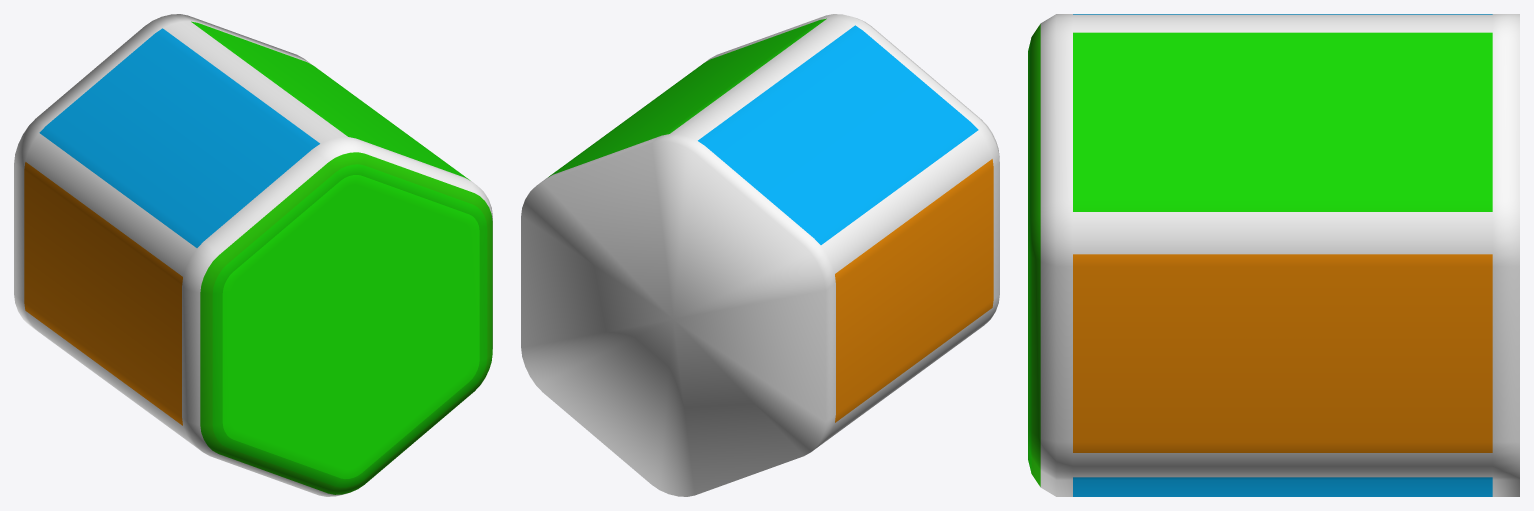
Rendered from D_FBX_06_Bumper_02_A.fbx.
3 renders of one model, left to right at view 1: azimuth 30°, elevation 25°; view 2: azimuth 150°, elevation 25°; view 3: azimuth 270°, elevation 25°, orthographic. The views are drawn at different scales.
Visible parts, largest first — view 1: D_FBX_06_Bumper_02_A; view 2: D_FBX_06_Bumper_02_A; view 3: D_FBX_06_Bumper_02_A.
Boxes of the visible parts, left/top/right/bottom form: D_FBX_06_Bumper_02_A: left=14, top=14, right=492, bottom=496; D_FBX_06_Bumper_02_A: left=521, top=14, right=999, bottom=496; D_FBX_06_Bumper_02_A: left=1028, top=14, right=1519, bottom=496.
Bounding box in the file's own units: 2 × 2.21 × 2.1.
